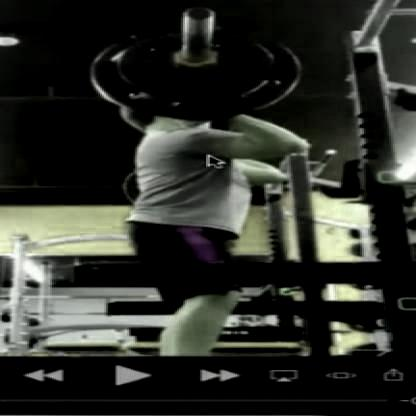Barbell: (183, 7, 219, 24)
